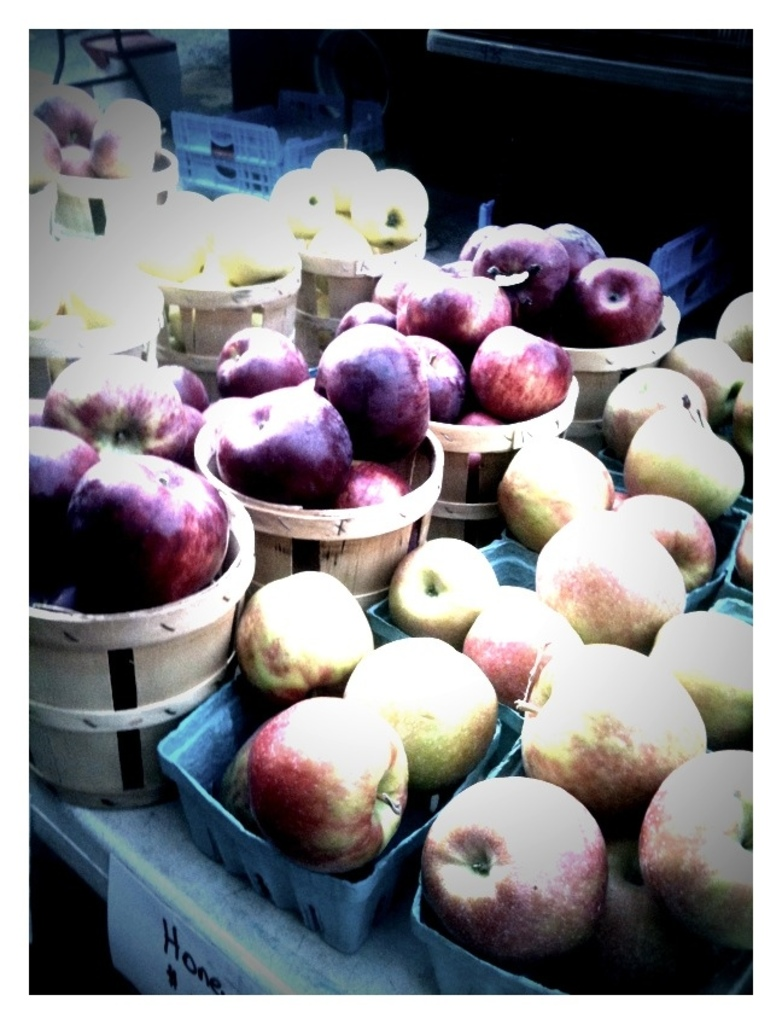Apple: (241, 289, 755, 992), (28, 218, 666, 615), (26, 135, 434, 376), (423, 770, 605, 980), (246, 696, 407, 877), (26, 83, 101, 147), (86, 117, 156, 177), (103, 99, 164, 158), (28, 113, 60, 194), (56, 143, 100, 172)
